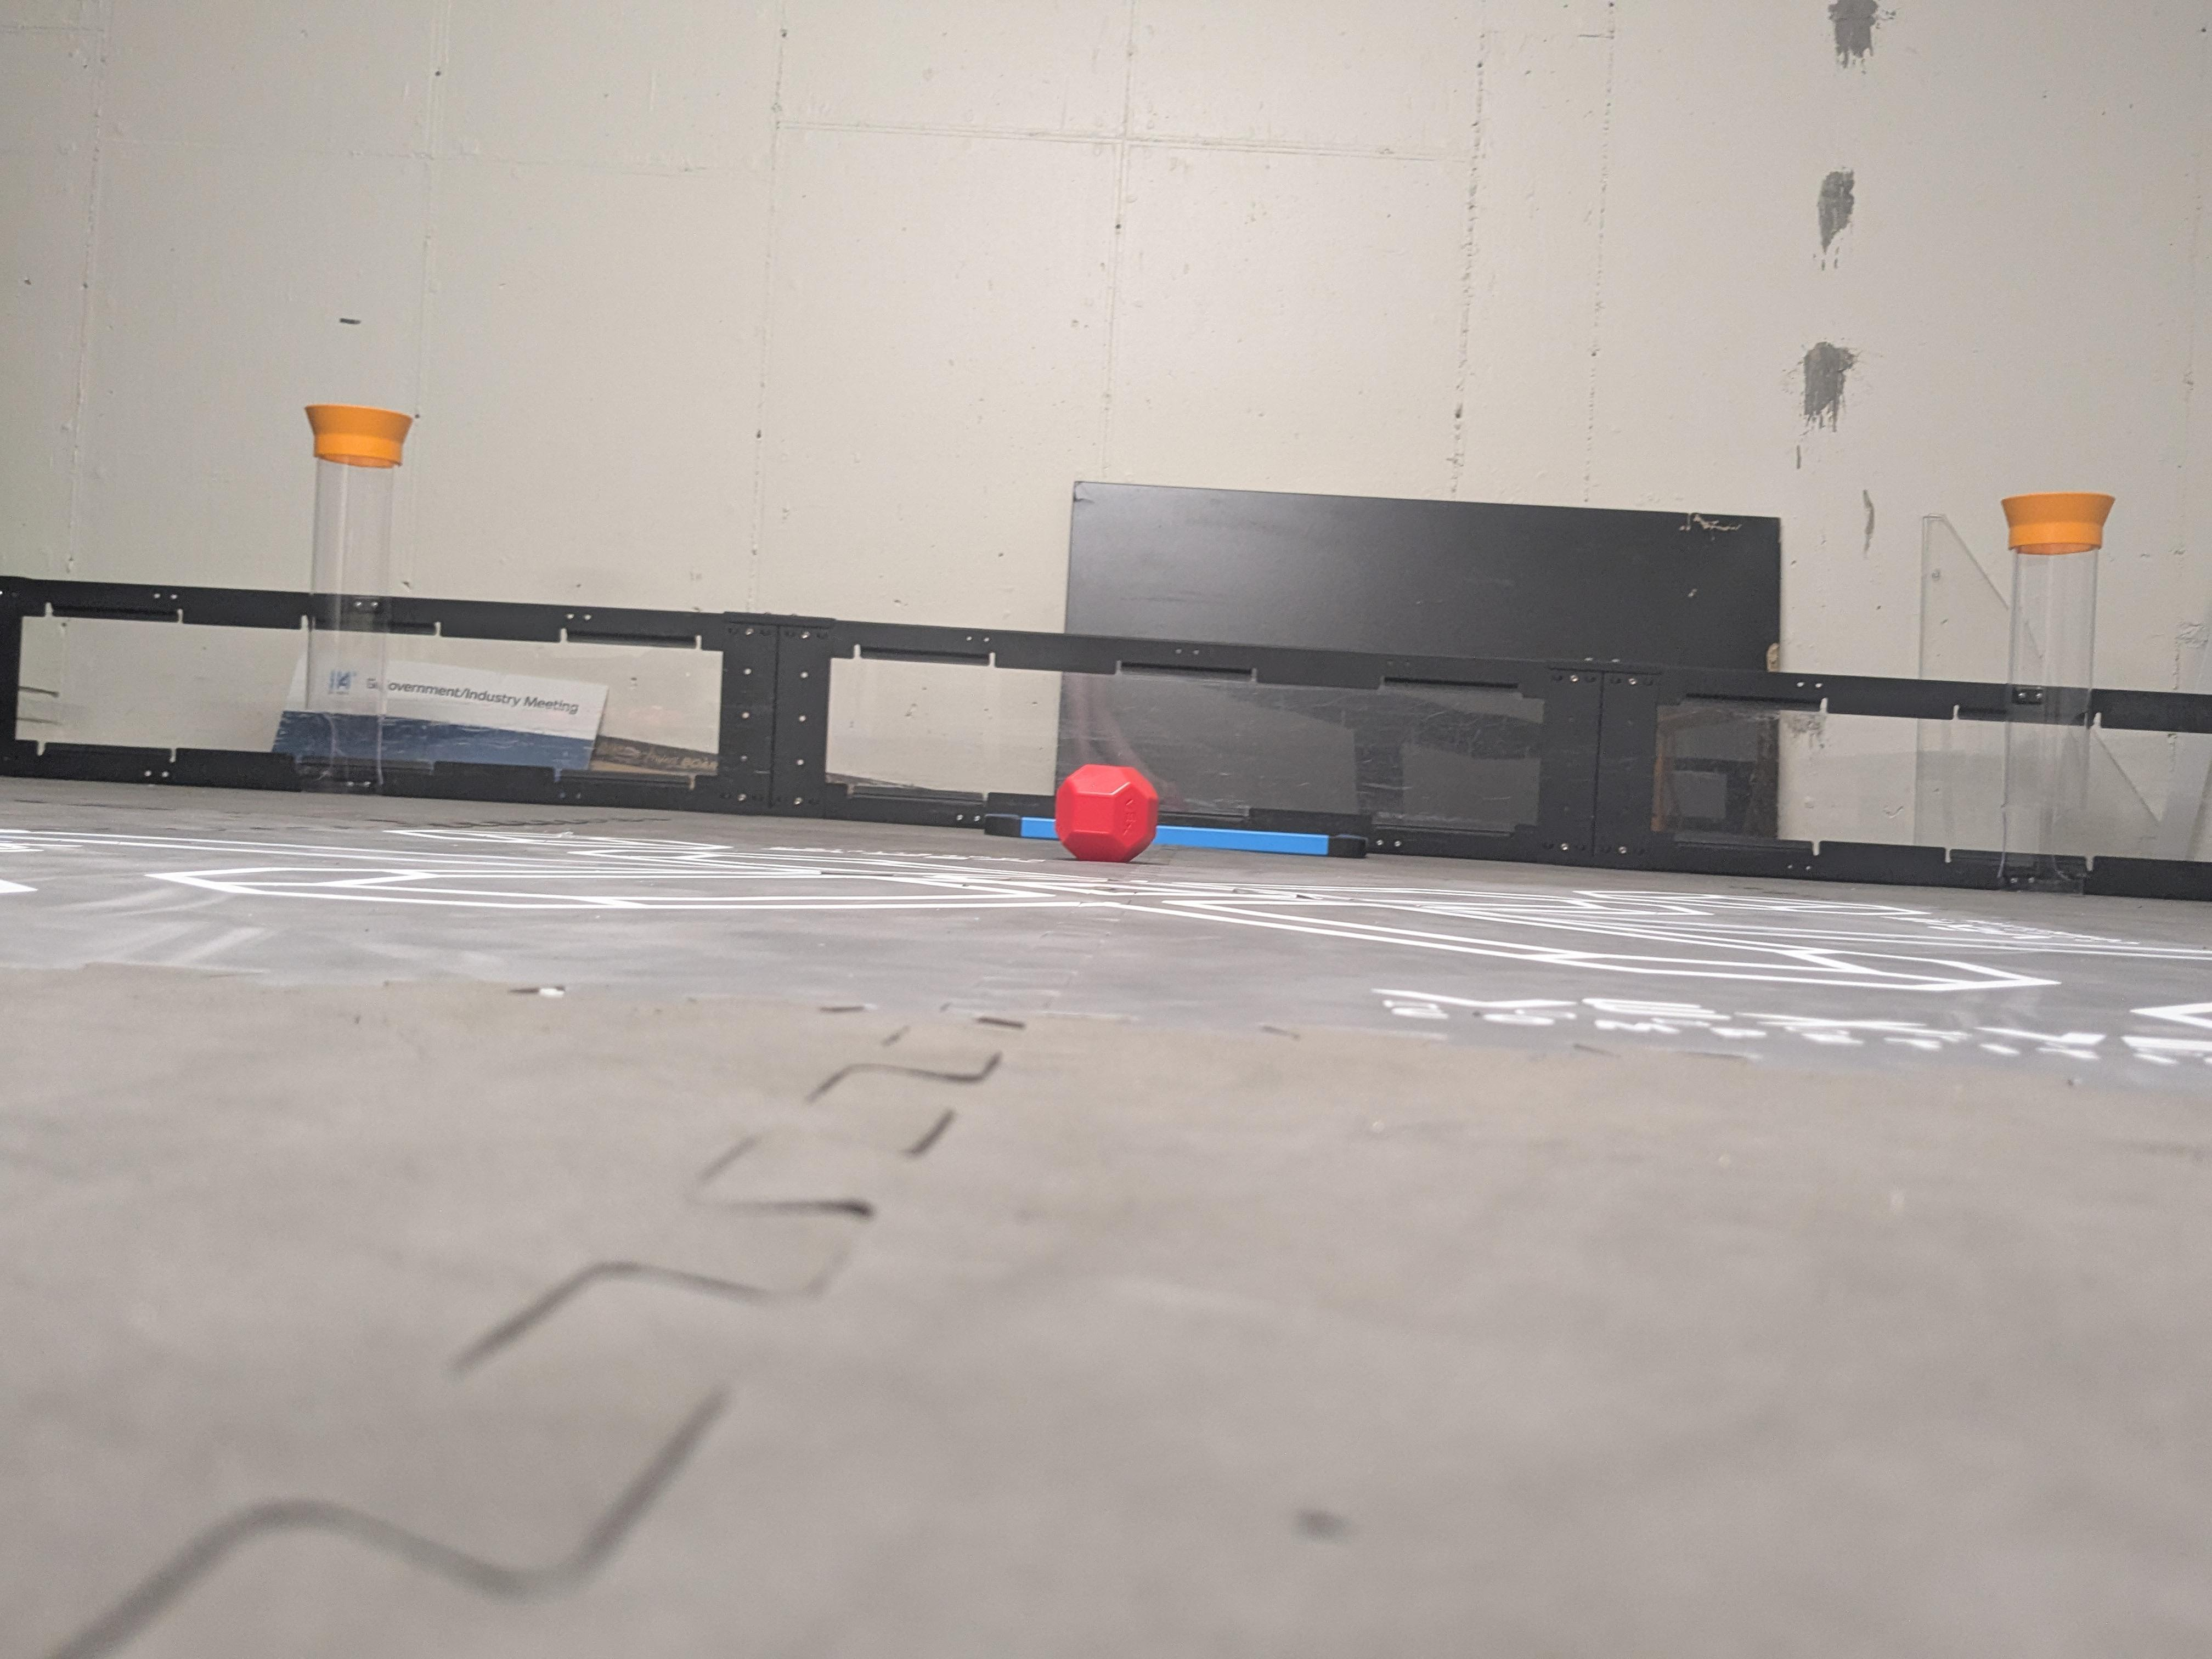Vex-Pieces-RED: (1054, 763, 1158, 861)
